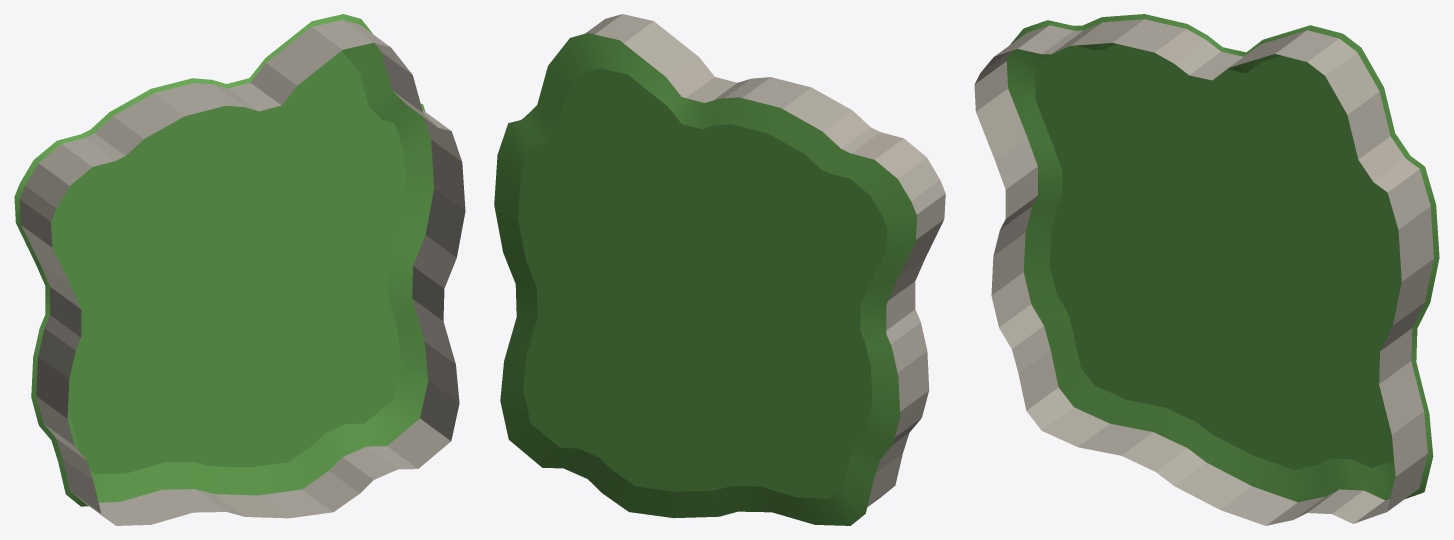
File: Ground Grass 04.FBX
3 views of the same model, side by side, from view 1: azimuth 30°, elevation 25°; view 2: azimuth 150°, elevation 25°; view 3: azimuth 330°, elevation 25° (orthographic). The views are drawn at different scales.
Parts seen in each view (by area): view 1: Ground Grass 04; view 2: Ground Grass 04; view 3: Ground Grass 04.
Boxes of the visible parts, x1,y1,x2,y2 form: Ground Grass 04: [14, 14, 465, 525]; Ground Grass 04: [494, 14, 945, 525]; Ground Grass 04: [974, 14, 1439, 525].
Size of the model in its own units: 980 by 1040 by 145.
